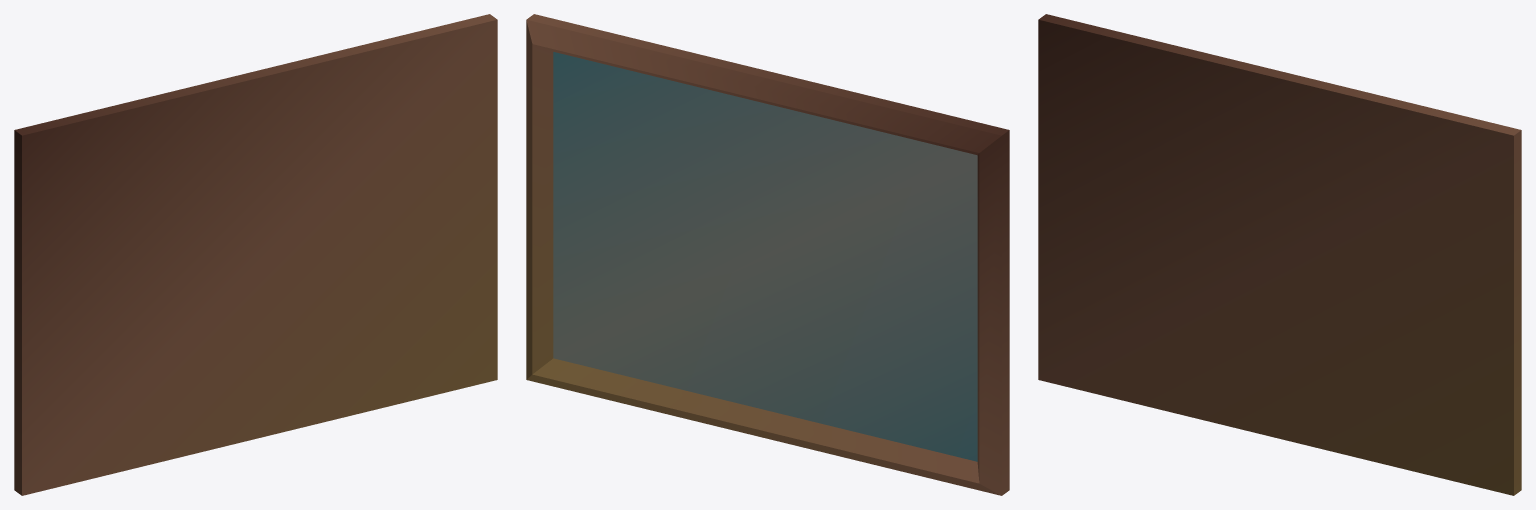
File: mirror.fbx
3 renders of one model, left to right at view 1: azimuth 30°, elevation 25°; view 2: azimuth 150°, elevation 25°; view 3: azimuth 330°, elevation 25°, orthographic.
Parts seen in each view (by area): view 1: mirror; view 2: mirror; view 3: mirror.
Boxes of the visible parts, x1,y1,x2,y2 form: mirror: [14, 14, 497, 495]; mirror: [526, 14, 1009, 495]; mirror: [1038, 14, 1521, 495].
Size of the model in its own units: 1.71 by 1.24 by 0.0994.
